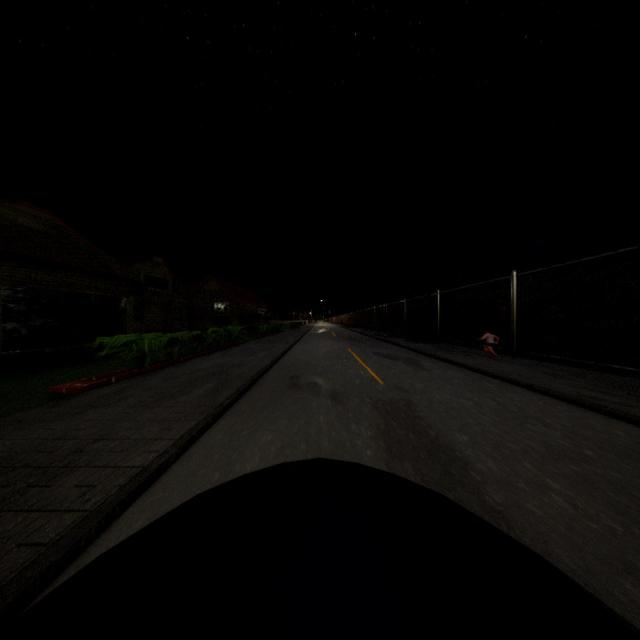Pedestrian: (474, 318, 502, 367)
Vehicle: (1, 454, 640, 640)
